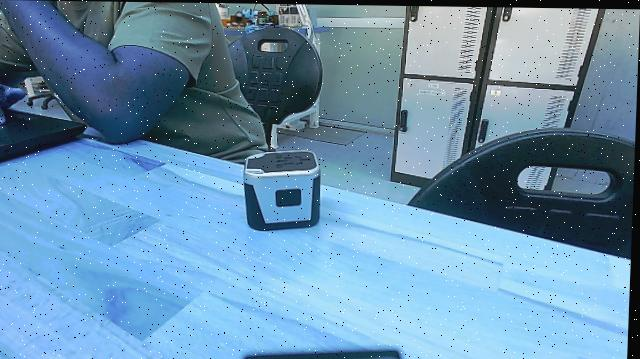adapter: (240, 150, 329, 229)
